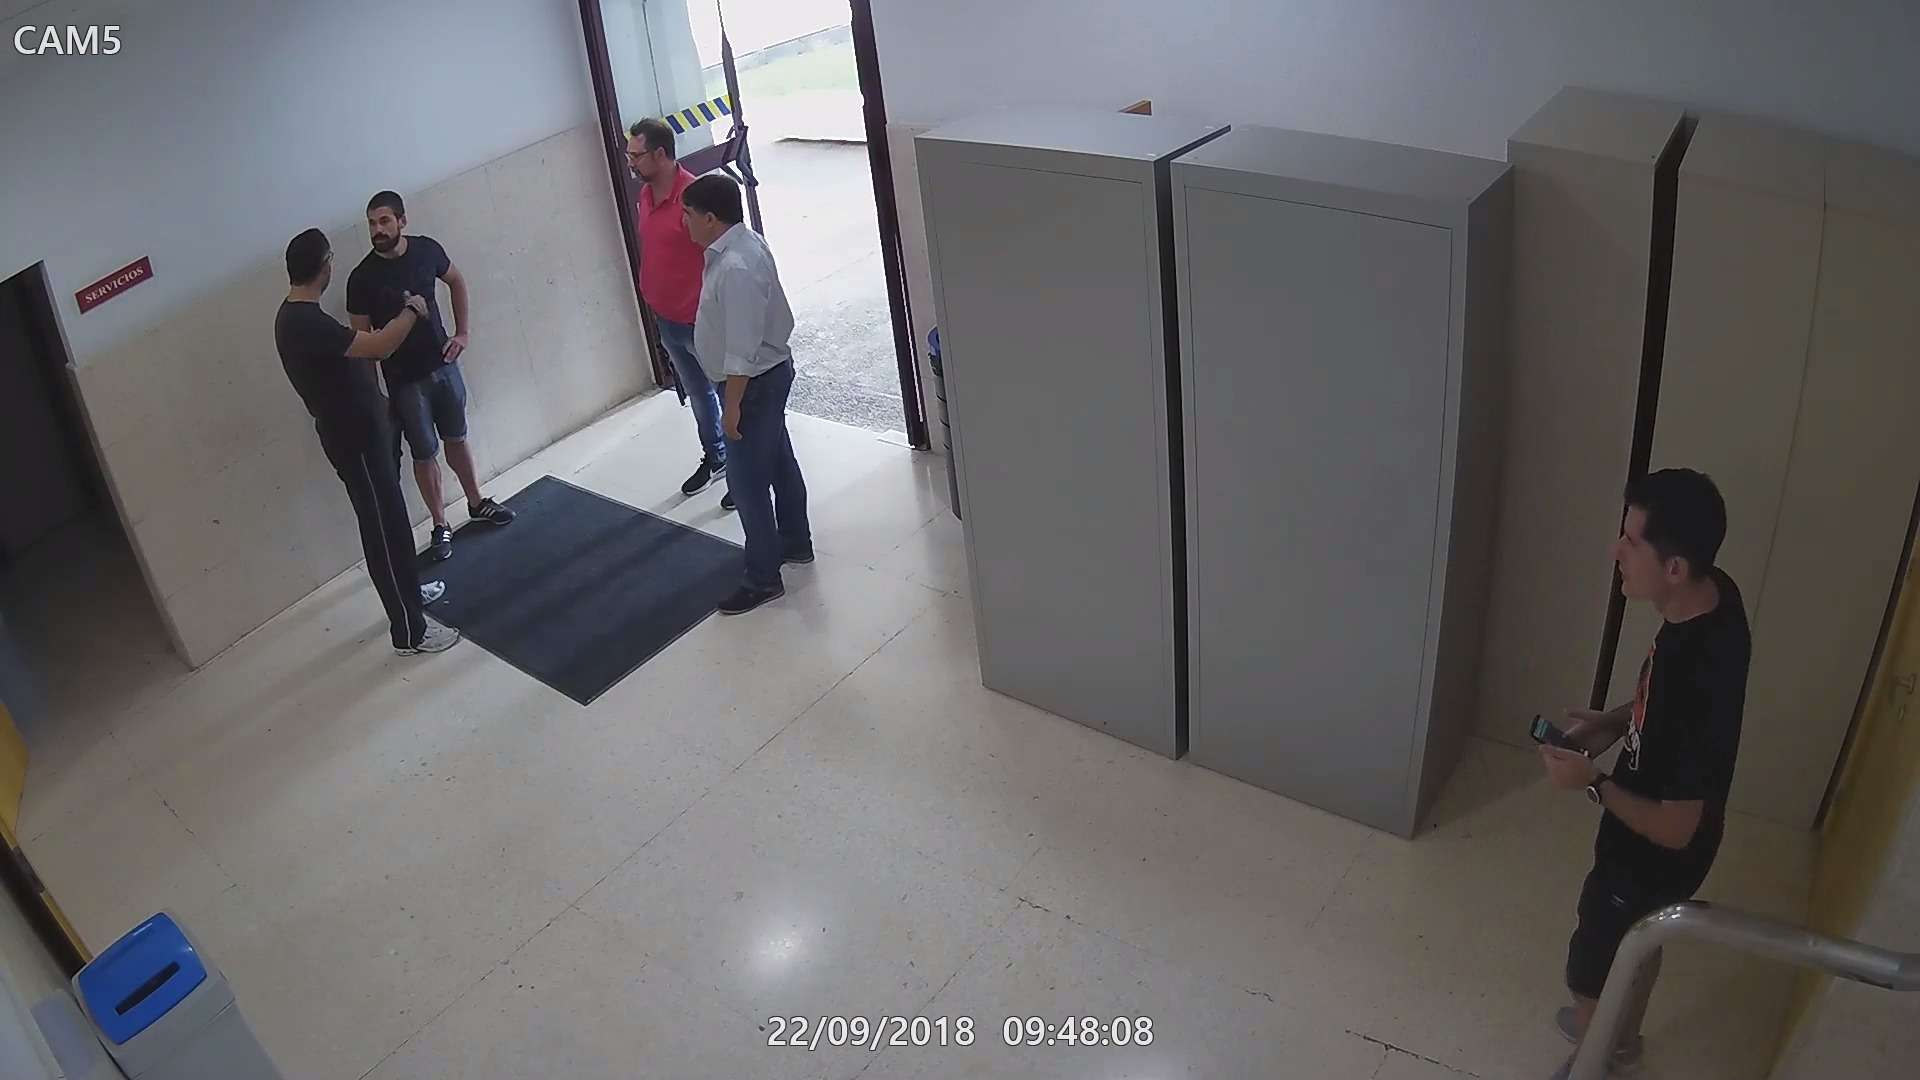Short_rifle: (653, 313, 694, 405), (378, 382, 413, 479)
